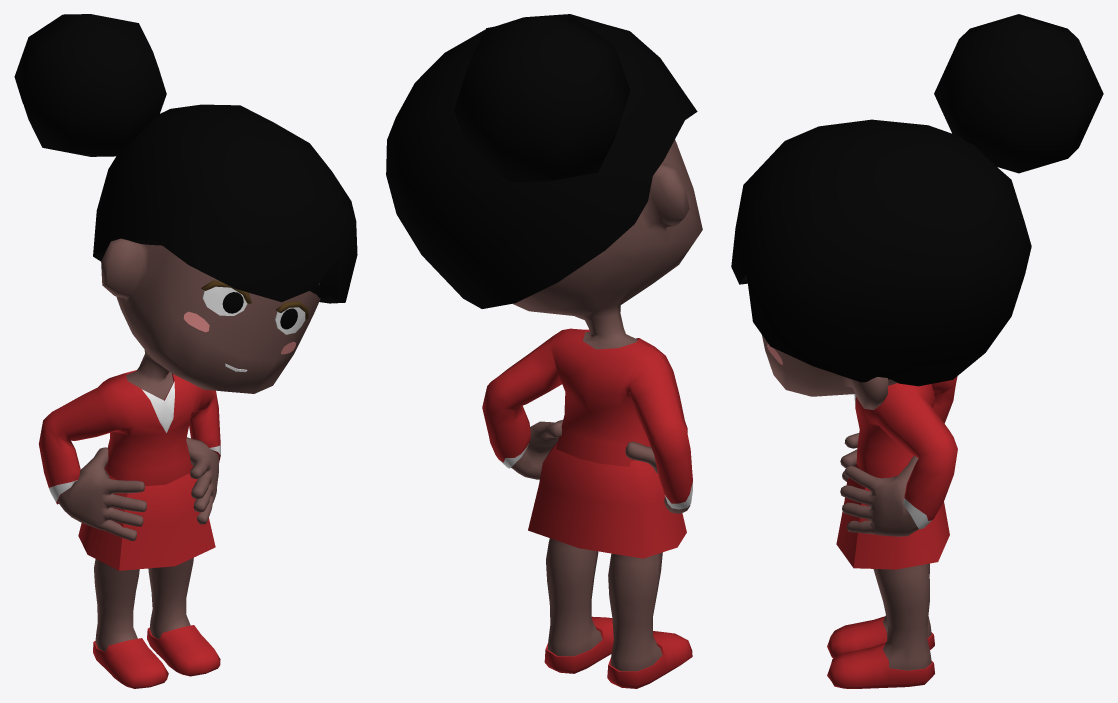
The model's file is Personaje_juzgado.fbx.
The picture shows the model from 3 angles, left to right: view 1: azimuth 30°, elevation 25°; view 2: azimuth 150°, elevation 25°; view 3: azimuth 270°, elevation 25°; orthographic projection. The views are drawn at different scales.
Parts seen in each view (by area): view 1: hair6, body.021, shirt3.016, body.020, shoes2.003, eyesbase2.012, eyes6.010; view 2: hair6, body.021, shirt3.016, body.020, shoes2.003; view 3: hair6, body.021, shirt3.016, shoes2.003, body.020.
Part boxes in pixels (left/top/right/bottom): hair6: left=14, top=14, right=357, bottom=303; body.021: left=57, top=238, right=320, bottom=651; shirt3.016: left=39, top=370, right=220, bottom=504; body.020: left=78, top=463, right=215, bottom=570; shoes2.003: left=93, top=625, right=220, bottom=688; eyesbase2.012: left=201, top=280, right=308, bottom=334; eyes6.010: left=222, top=292, right=297, bottom=329; hair6: left=386, top=14, right=697, bottom=308; body.021: left=511, top=140, right=702, bottom=671; shirt3.016: left=482, top=328, right=692, bottom=509; body.020: left=528, top=441, right=686, bottom=558; shoes2.003: left=544, top=616, right=692, bottom=688; hair6: left=731, top=14, right=1103, bottom=386; body.021: left=761, top=334, right=931, bottom=670; shirt3.016: left=854, top=376, right=957, bottom=529; shoes2.003: left=827, top=616, right=934, bottom=688; body.020: left=836, top=464, right=949, bottom=569.
Bounding box in the file's own units: 89.4 × 197 × 102.
